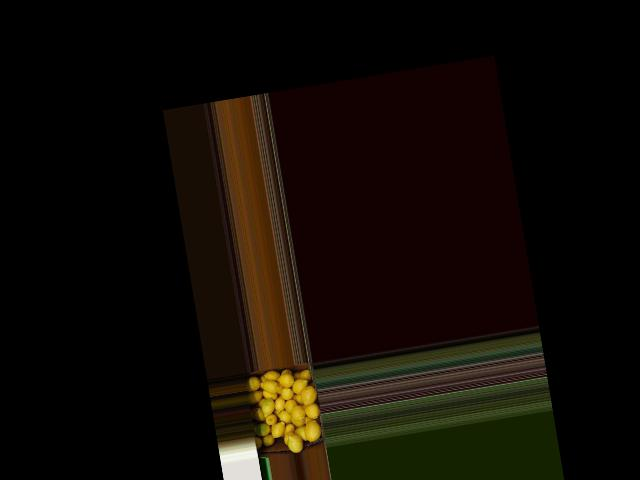lemon: (277, 410, 291, 423)
